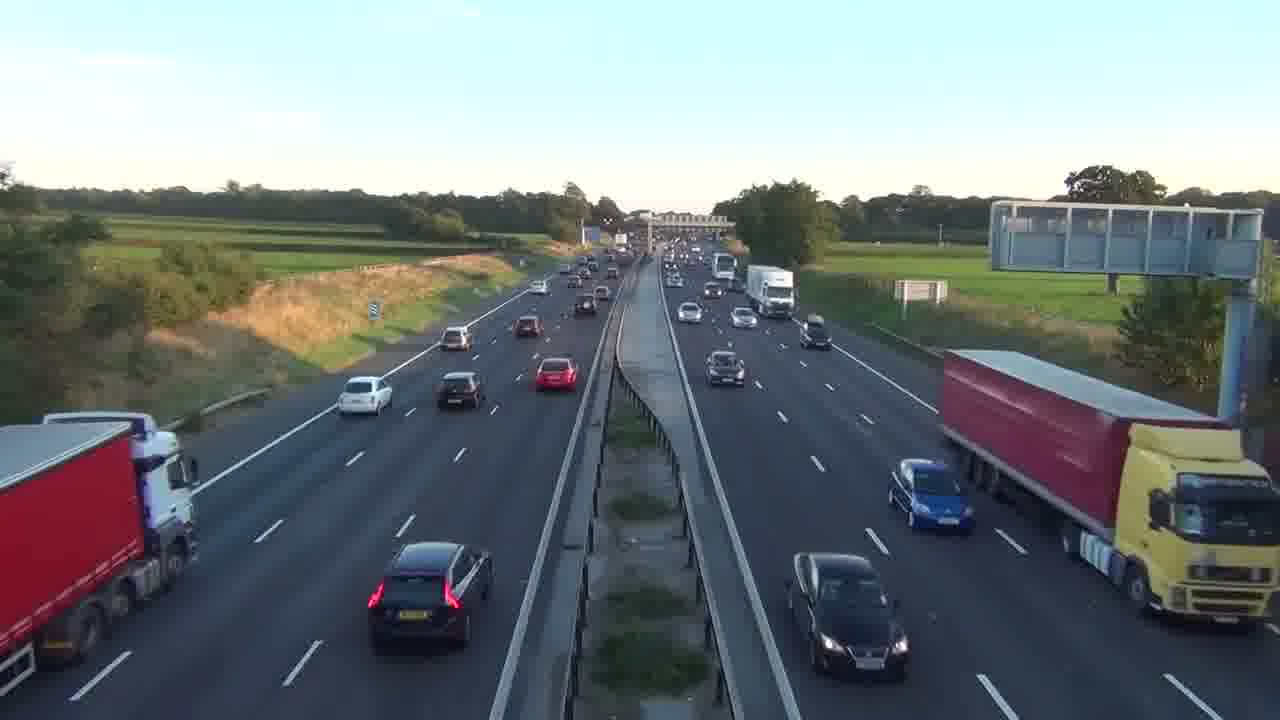car: (788, 551, 911, 683), (366, 540, 494, 651), (337, 375, 392, 416), (436, 370, 483, 409), (534, 356, 579, 393), (705, 349, 747, 388), (678, 301, 703, 323)
truck: (939, 347, 1280, 633), (0, 411, 198, 696), (788, 551, 911, 683), (745, 264, 797, 319)
